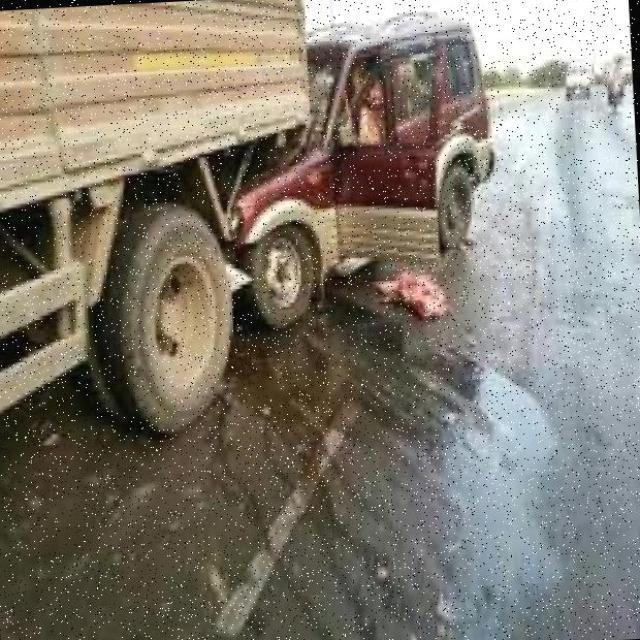accident: (187, 2, 509, 307)
